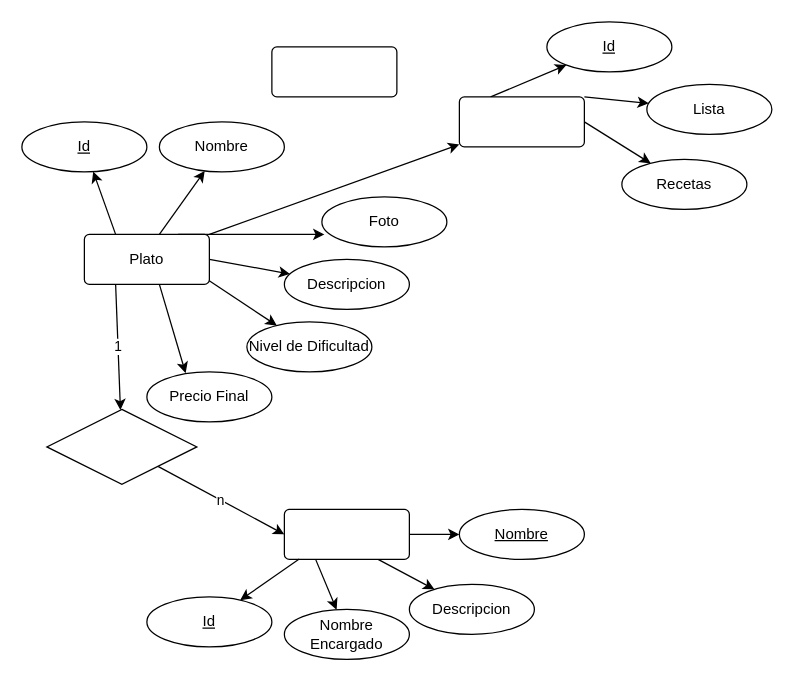
Some shapes in this 794 by 681 pixel diagram are drawn without their labels. Here are the shapes that lost their labels. From the top down, the centre of each, then its label:
At point 334,71: "Carta de Restaurante".
At point 521,121: "Ingredientes".
At point 121,446: "Tiene".
At point 346,533: "Categoria".
